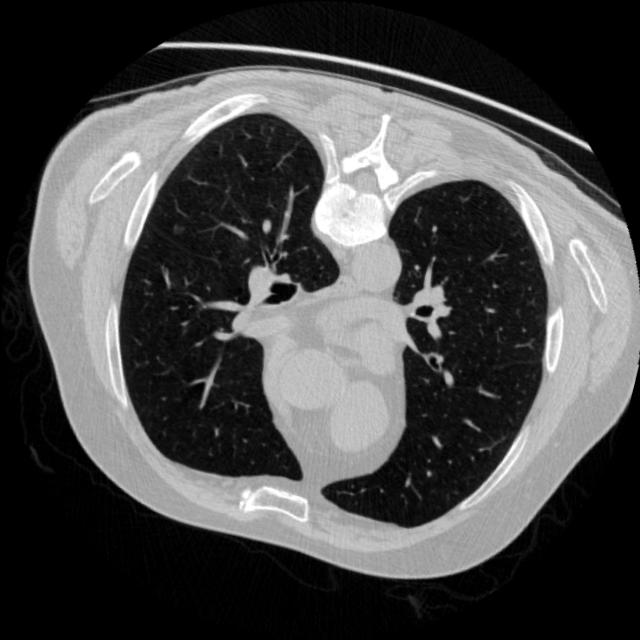nodule: (162, 216, 188, 243)
